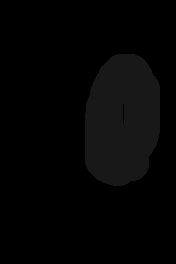fp: (79, 48, 166, 180)
